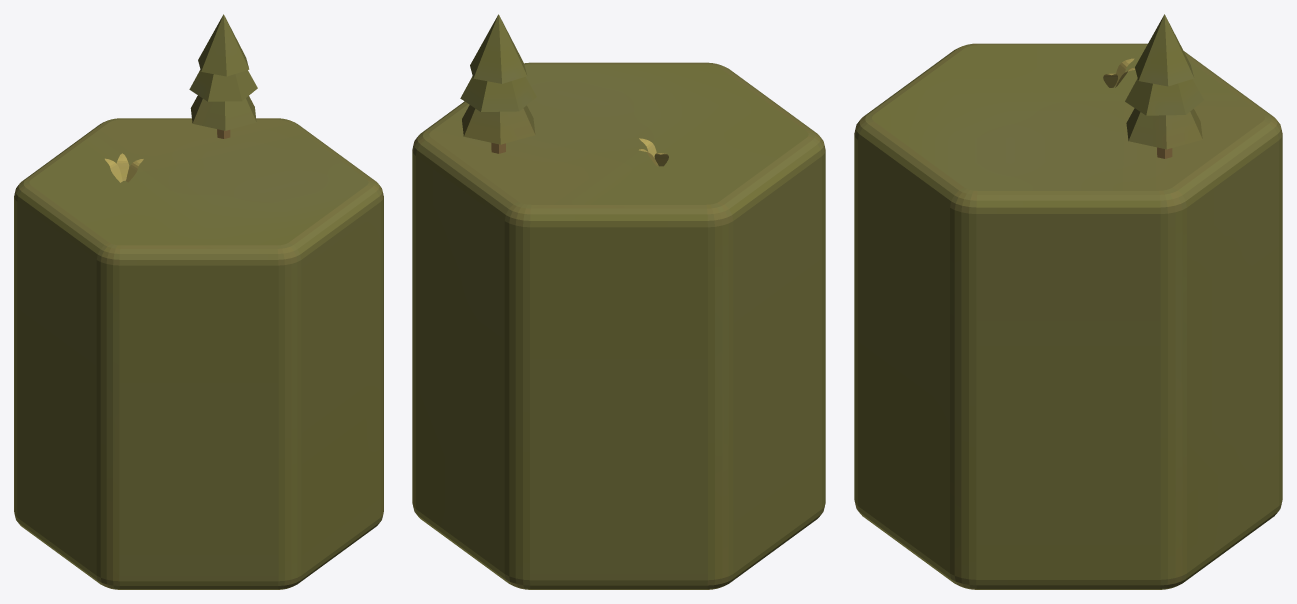
The model's file is Hex-forest3.glb.
The picture shows the model from 3 angles, left to right: view 1: azimuth 30°, elevation 25°; view 2: azimuth 150°, elevation 25°; view 3: azimuth 270°, elevation 25°; orthographic projection. The views are drawn at different scales.
Parts seen in each view (by area): view 1: Cylinder, Cylinder.161_Material.001_0, Plane.085_Material.001_0; view 2: Cylinder, Cylinder.161_Material.001_0; view 3: Cylinder, Cylinder.161_Material.001_0.
Part boxes in pixels (box(x1,y1,x2,y2)): Cylinder: box(14, 118, 383, 589); Cylinder.161_Material.001_0: box(189, 14, 257, 138); Plane.085_Material.001_0: box(105, 153, 143, 182); Cylinder: box(412, 62, 825, 589); Cylinder.161_Material.001_0: box(460, 14, 536, 153); Cylinder: box(854, 43, 1282, 589); Cylinder.161_Material.001_0: box(1125, 14, 1203, 158).
Size of the model in its own units: 1.73 by 2.71 by 1.95.
Materials: 2 (2 with a texture image).
